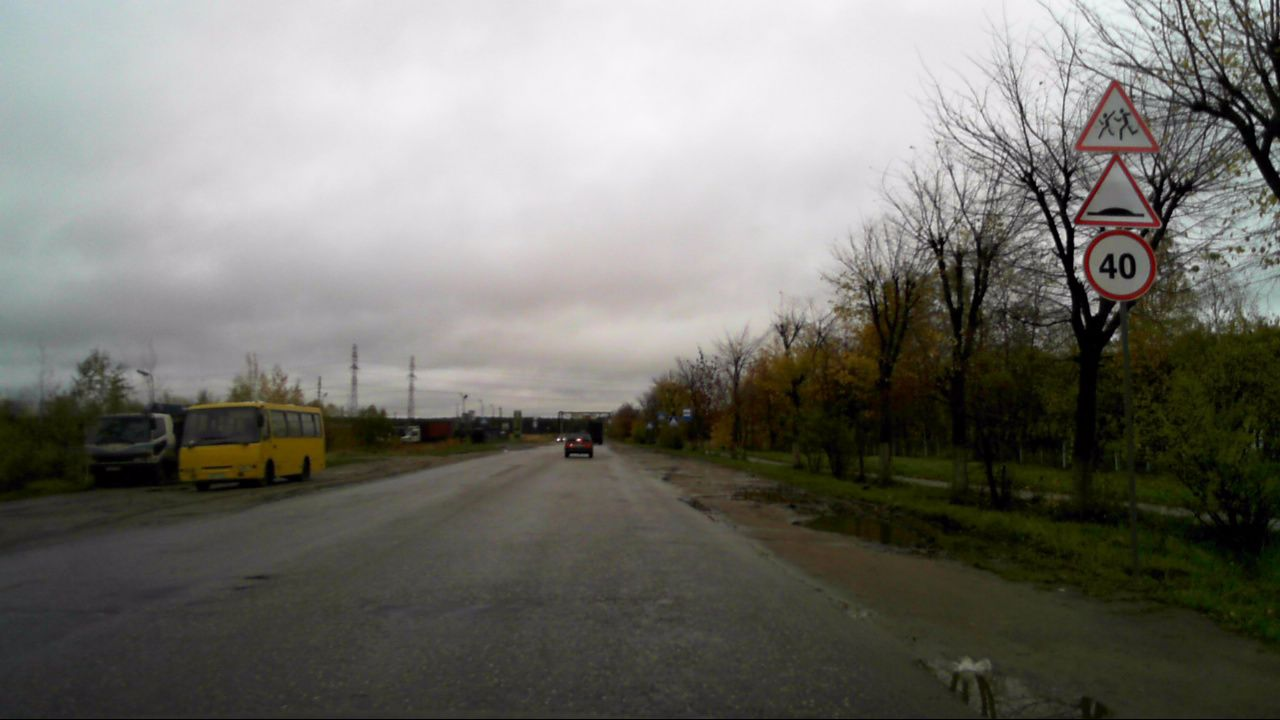speed_warning_40: (1081, 228, 1157, 303)
